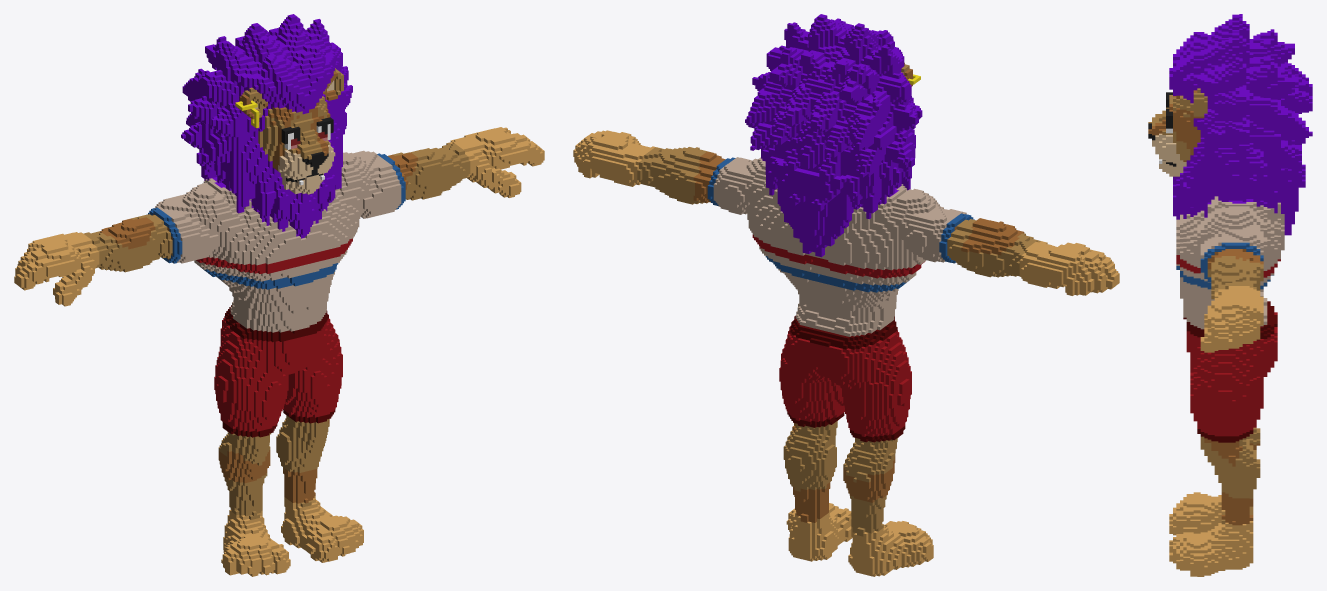
The model's file is 679-DsSO19UU.glb.
The picture shows the model from 3 angles, left to right: view 1: azimuth 30°, elevation 25°; view 2: azimuth 150°, elevation 25°; view 3: azimuth 270°, elevation 25°; orthographic projection. The views are drawn at different scales.
Parts seen in each view (by area): view 1: standard; view 2: standard; view 3: standard.
Part boxes in pixels (bbox=[...]): standard: bbox=[14, 14, 544, 576]; standard: bbox=[573, 14, 1119, 576]; standard: bbox=[1148, 14, 1312, 576].
Bounding box in the file's own units: 17.2 × 16.5 × 4.7.
6 materials, 6 textured.
